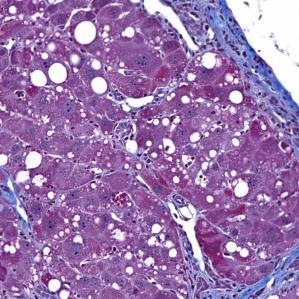fibrosis: (205, 16, 286, 107), (188, 268, 260, 299)
